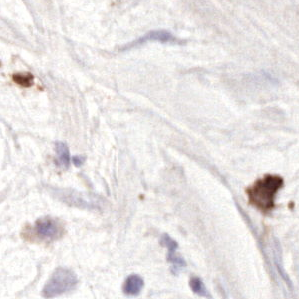Lymphocyte: (242, 173, 287, 210)
